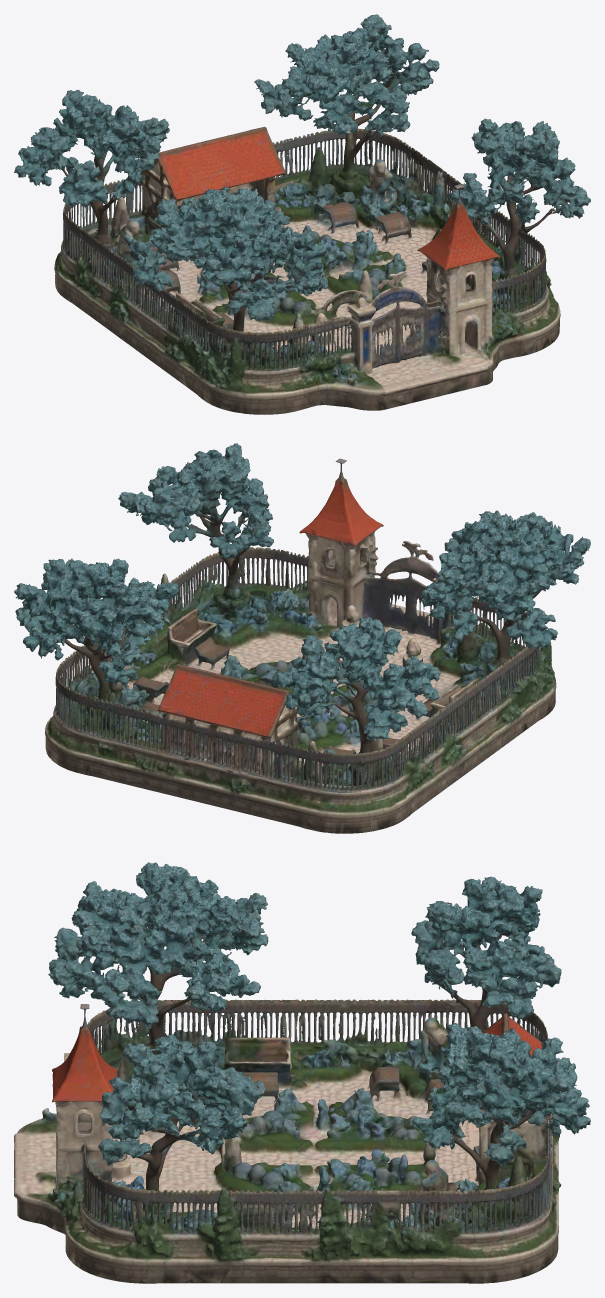
Rendered from blauergarten.glb.
The picture shows the model from 3 angles, top to bottom: view 1: azimuth 30°, elevation 25°; view 2: azimuth 150°, elevation 25°; view 3: azimuth 270°, elevation 25°; orthographic projection. The views are drawn at different scales.
Size of the model in its own units: 1.89 by 0.8281 by 1.89.
Materials: 1 (1 with a texture image).
